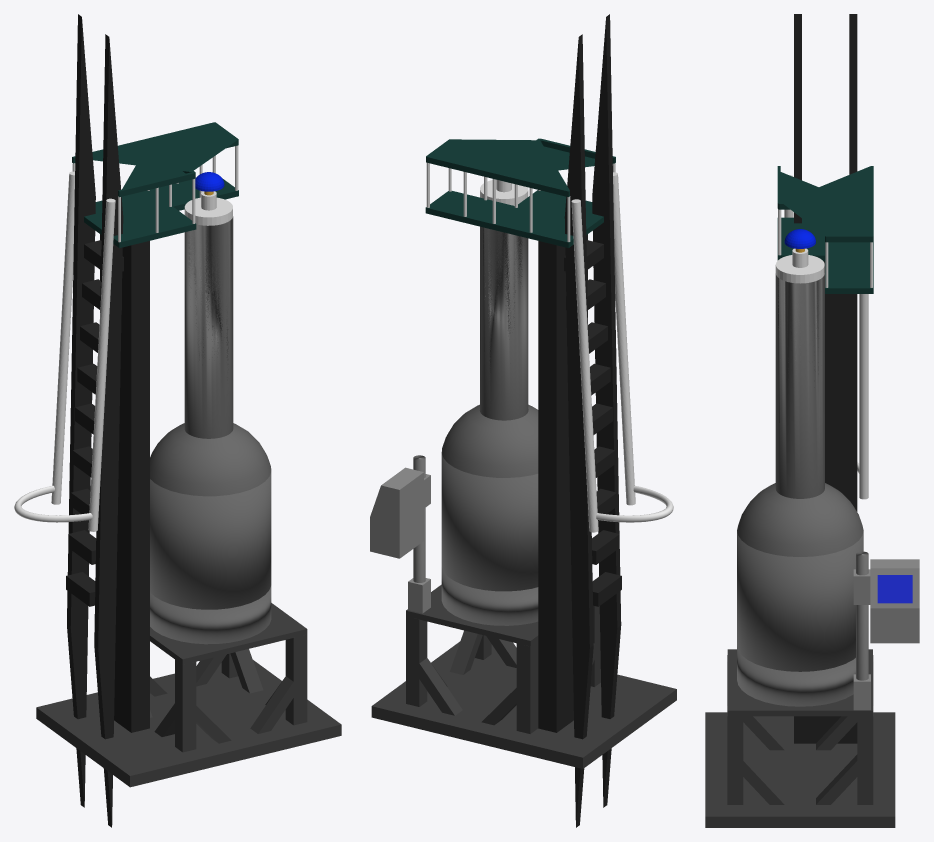
Rendered from crystalgrower.fbx.
3 renders of one model, left to right at view 1: azimuth 30°, elevation 25°; view 2: azimuth 150°, elevation 25°; view 3: azimuth 270°, elevation 25°, orthographic.
Visible parts, largest first — view 1: letterbase, bottomplane2, outerbody, letterbase3, topbody.1, letterbase2, topbody, topoftop.002, bottombody, topoftop, lettersafepole, lettersafepole.001 (+9 smaller); view 2: letterbase, bottomplane2, letterbase2, outerbody, letterbase3, topbody.1, topoftop.002, topbody, topoftop, controller, bottombody, lettersafepole.001 (+13 smaller); view 3: bottomplane2, outerbody, topbody.1, letterbase, topbody, topoftop.002, controller, bottombody, topoftop, topplane, lettersafepole.001, planeleg4 (+12 smaller).
Part boxes in pixels (x1,y1,x2,y2): letterbase: (100,234,149,732); bottomplane2: (36,660,341,787); outerbody: (150,472,271,609); letterbase3: (94,34,123,827); topbody.1: (184,216,233,438); letterbase2: (67,14,95,807); topbody: (150,423,271,496); topoftop.002: (72,122,238,197); bottombody: (150,586,271,644); topoftop: (84,178,238,247); lettersafepole: (88,198,115,531); lettersafepole.001: (51,171,74,504); letterbase: (538,234,587,732); bottomplane2: (371,641,676,768); letterbase2: (564,34,593,827); outerbody: (441,454,538,591); letterbase3: (592,14,621,807); topbody.1: (480,226,528,420); topoftop.002: (426,138,615,196); topbody: (441,404,538,477); topoftop: (425,190,603,247); controller: (370,467,423,558); bottombody: (441,567,538,625); lettersafepole.001: (571,199,598,532); bottomplane2: (705,712,895,827); outerbody: (737,531,863,671); topbody.1: (775,273,824,498); letterbase: (794,261,857,743); topbody: (737,483,863,556); topoftop.002: (777,166,873,242); controller: (870,559,919,643); bottombody: (737,646,855,706); topoftop: (777,217,873,293); topplane: (727,649,872,716); lettersafepole.001: (859,294,868,499); planeleg4: (857,710,873,804).
Bounding box in the file's own units: 488 × 1396 × 338.
